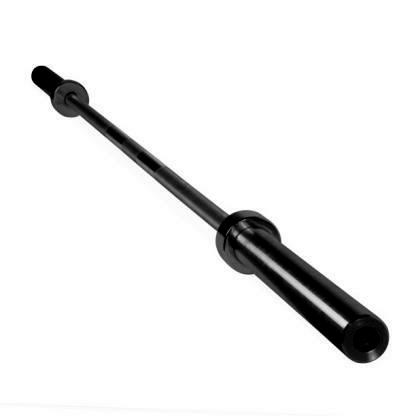Barbell: (335, 308, 393, 367)
